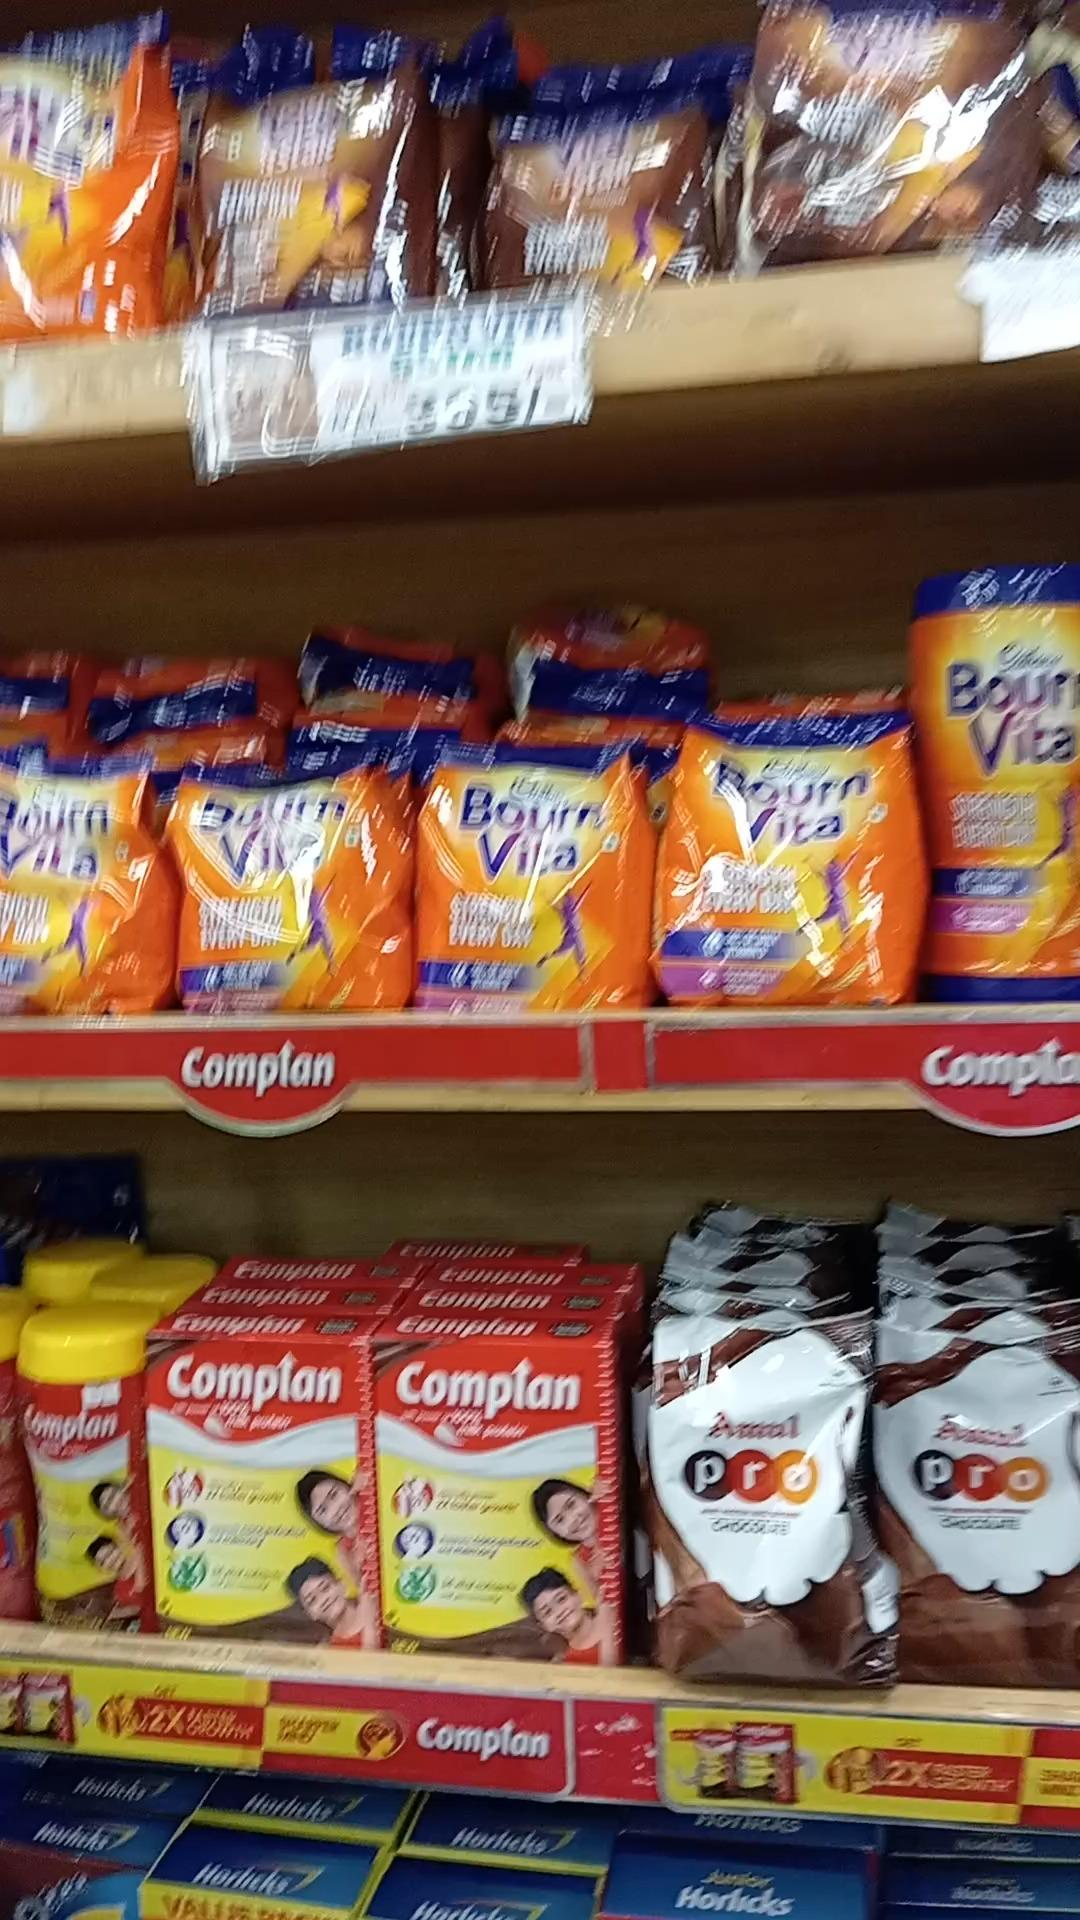BOURN_VITA_500_G_JAR: (16, 1312, 140, 1629)
BOURN_VITA_500_G_POUCH: (665, 705, 913, 1005), (426, 725, 646, 1011), (174, 748, 405, 1007), (0, 13, 164, 344), (0, 716, 157, 1010)
BOURN_VITA_FIVE_STAR_MAGIC_500_G_POUCH: (196, 38, 427, 320), (484, 63, 705, 284)
COMPLAN_CHOCOLATE_500_GMS_PACK: (380, 1336, 620, 1676), (152, 1336, 369, 1652)
